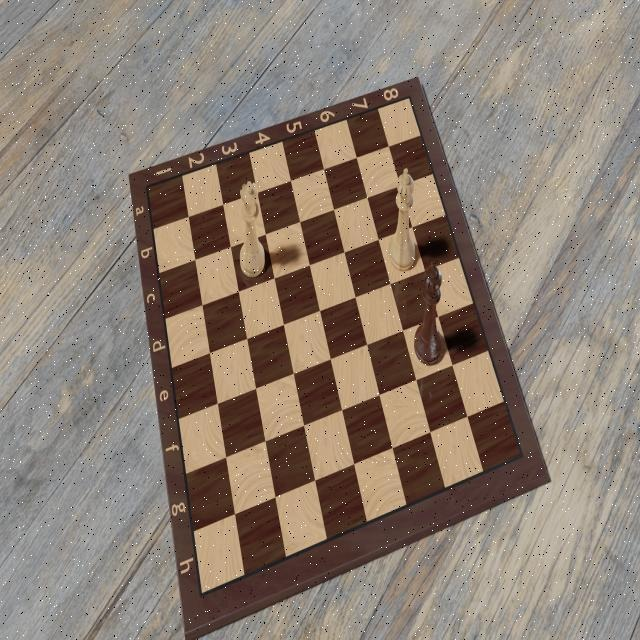black-king: (411, 258, 444, 369)
white-king: (386, 166, 417, 273)
white-queen: (236, 177, 267, 282)
